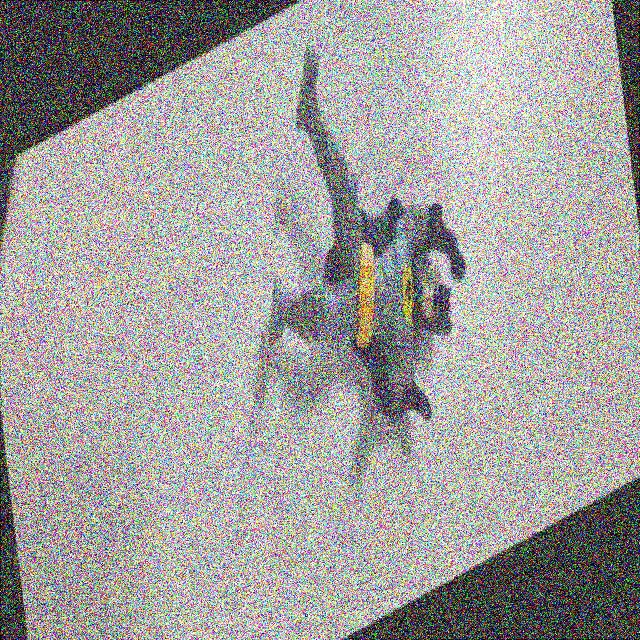Batman: (234, 0, 483, 499)
